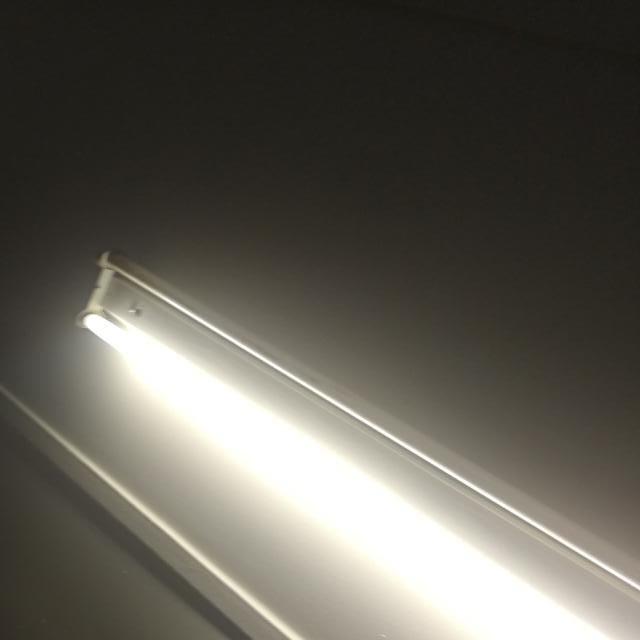fluorescent tube: (57, 347, 640, 640)
